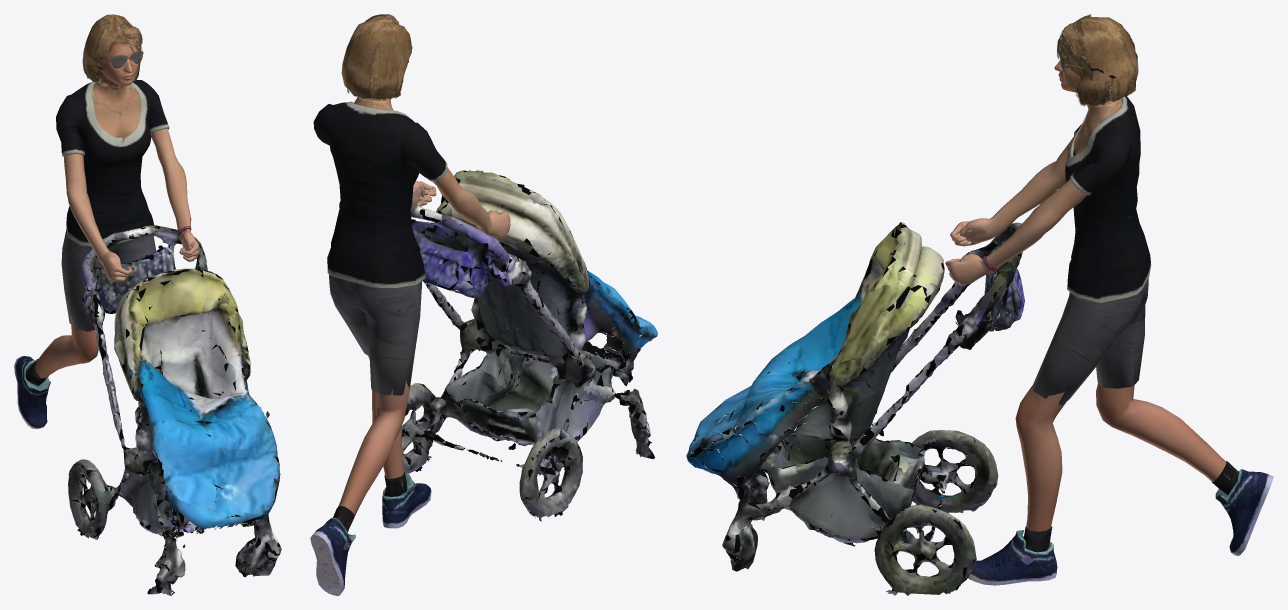
3 views of the same model, side by side, from view 1: azimuth 30°, elevation 25°; view 2: azimuth 150°, elevation 25°; view 3: azimuth 270°, elevation 25° (orthographic). The views are drawn at different scales.
Visible parts, largest first — view 1: p04365_props, p04365; view 2: p04365_props, p04365; view 3: p04365_props, p04365.
Part boxes in pixels (x1=…): p04365_props: x1=68, y1=225, x2=281, y2=595; p04365: x1=14, y1=14, x2=199, y2=429; p04365_props: x1=401, y1=170, x2=657, y2=521; p04365: x1=310, y1=14, x2=510, y2=595; p04365_props: x1=686, y1=222, x2=1024, y2=595; p04365: x1=945, y1=14, x2=1273, y2=585.
Bounding box in the file's own units: 0.5783 × 1.61 × 1.55.
2 materials, 2 textured.
